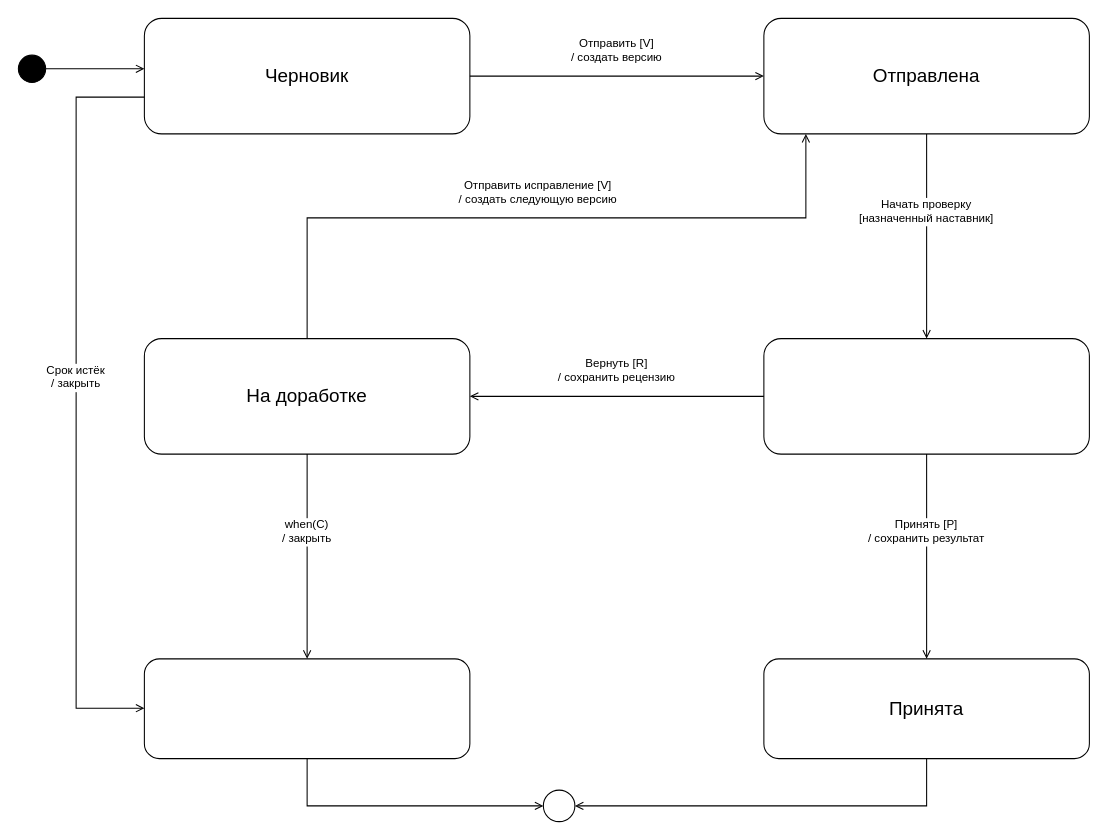
The diagram is 1108 pixels wide and 840 high, and some of its shapes have lost their labels. Each missing label, with the centre of its shape:
"Закрыта без зачёта" belongs at point 306,708.
"На проверке" belongs at point 926,396.
